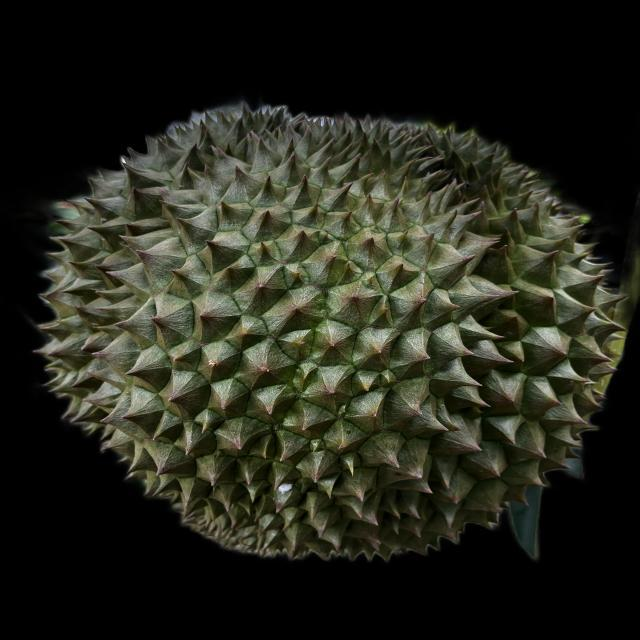immature: (30, 101, 636, 565)
